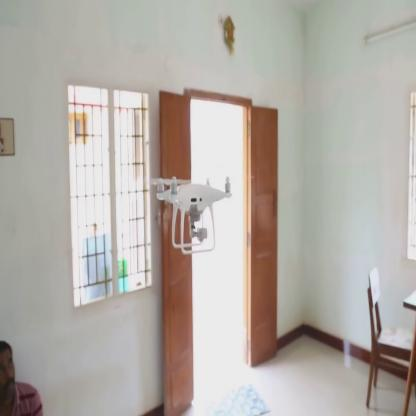drone: (145, 164, 234, 259)
